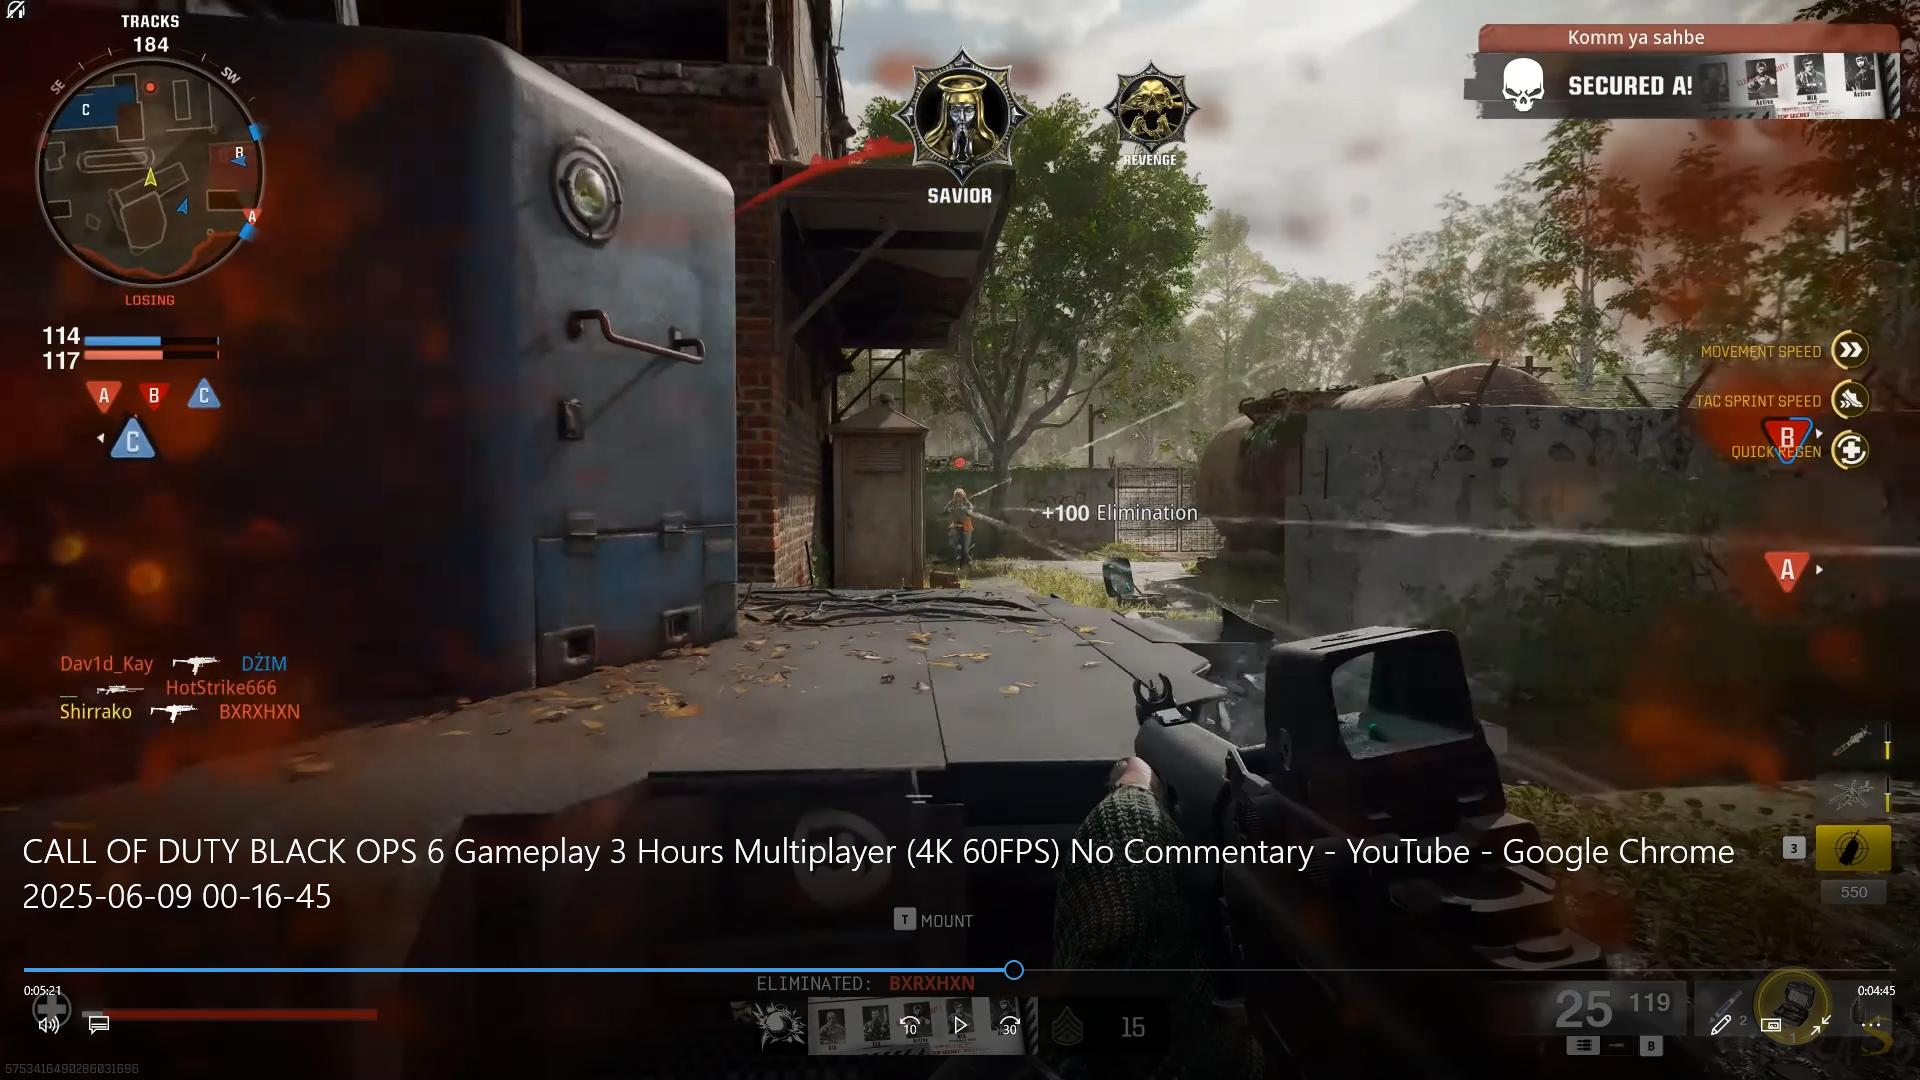Enemy: (943, 480, 977, 571)
